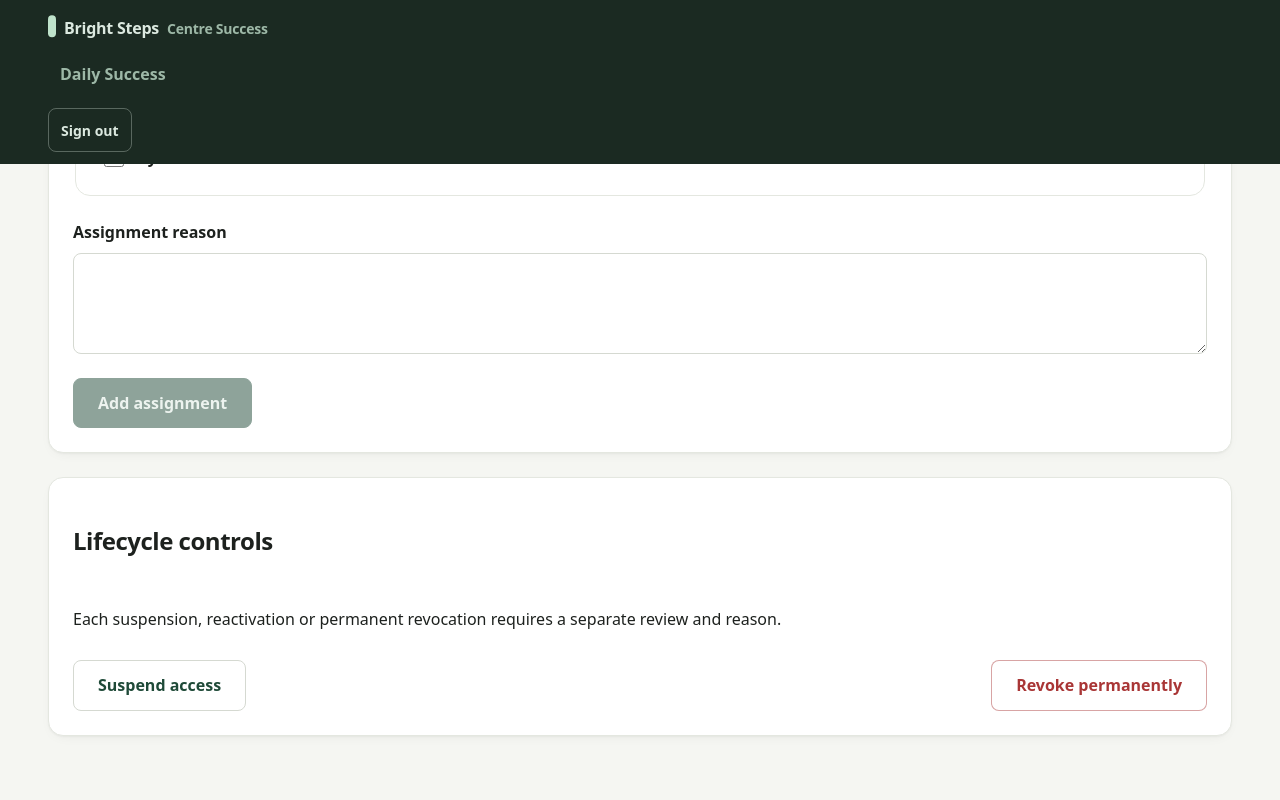
Test case: dialog focus management › labels a destructive confirmation clearly and blocks it without a reason
(page scrolled)
Step 1. Click the button "Revoke permanently" → coordinates (1099, 686), box [991, 660, 1207, 711]
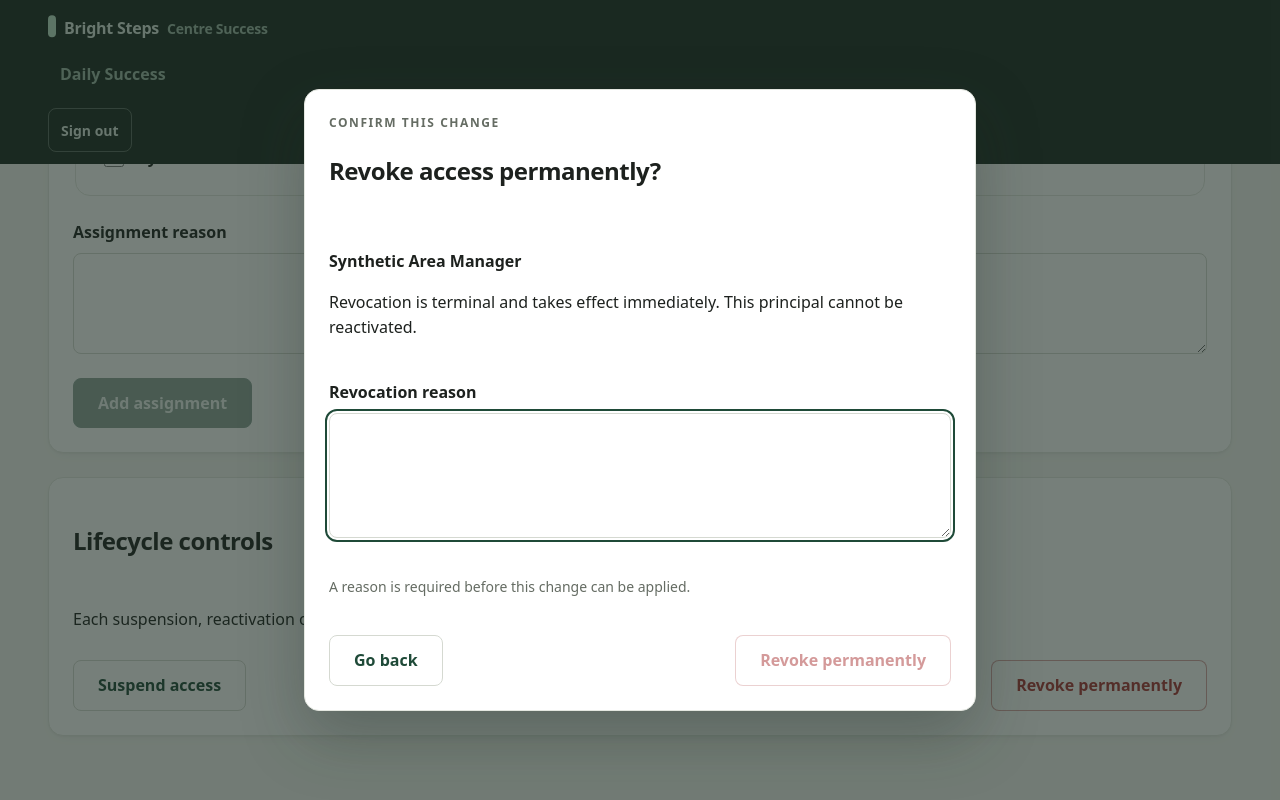
Now the text "Revocation is terminal" is shown, box [329, 291, 903, 338]
Now the button "Revoke permanently" is disabled, box [735, 635, 951, 686]
